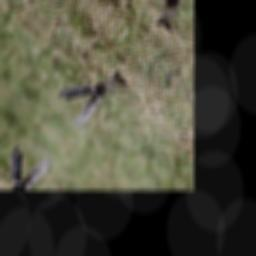Swallow: (49, 50, 132, 139)
